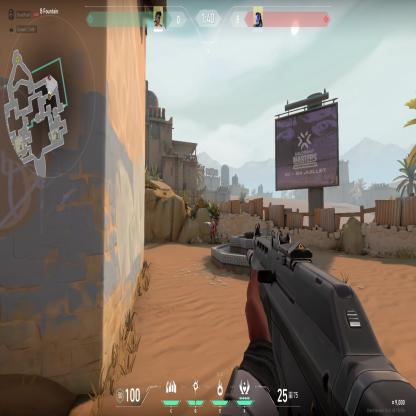enemy: (207, 216, 219, 244)
